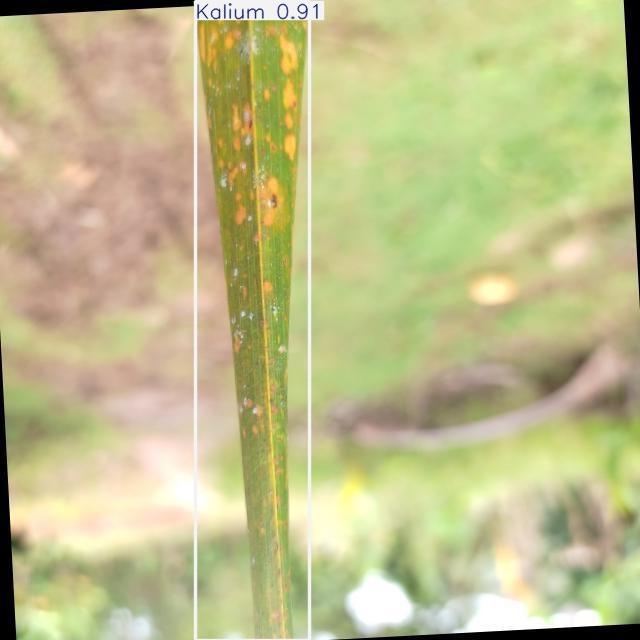Kalium: (195, 2, 309, 640)
